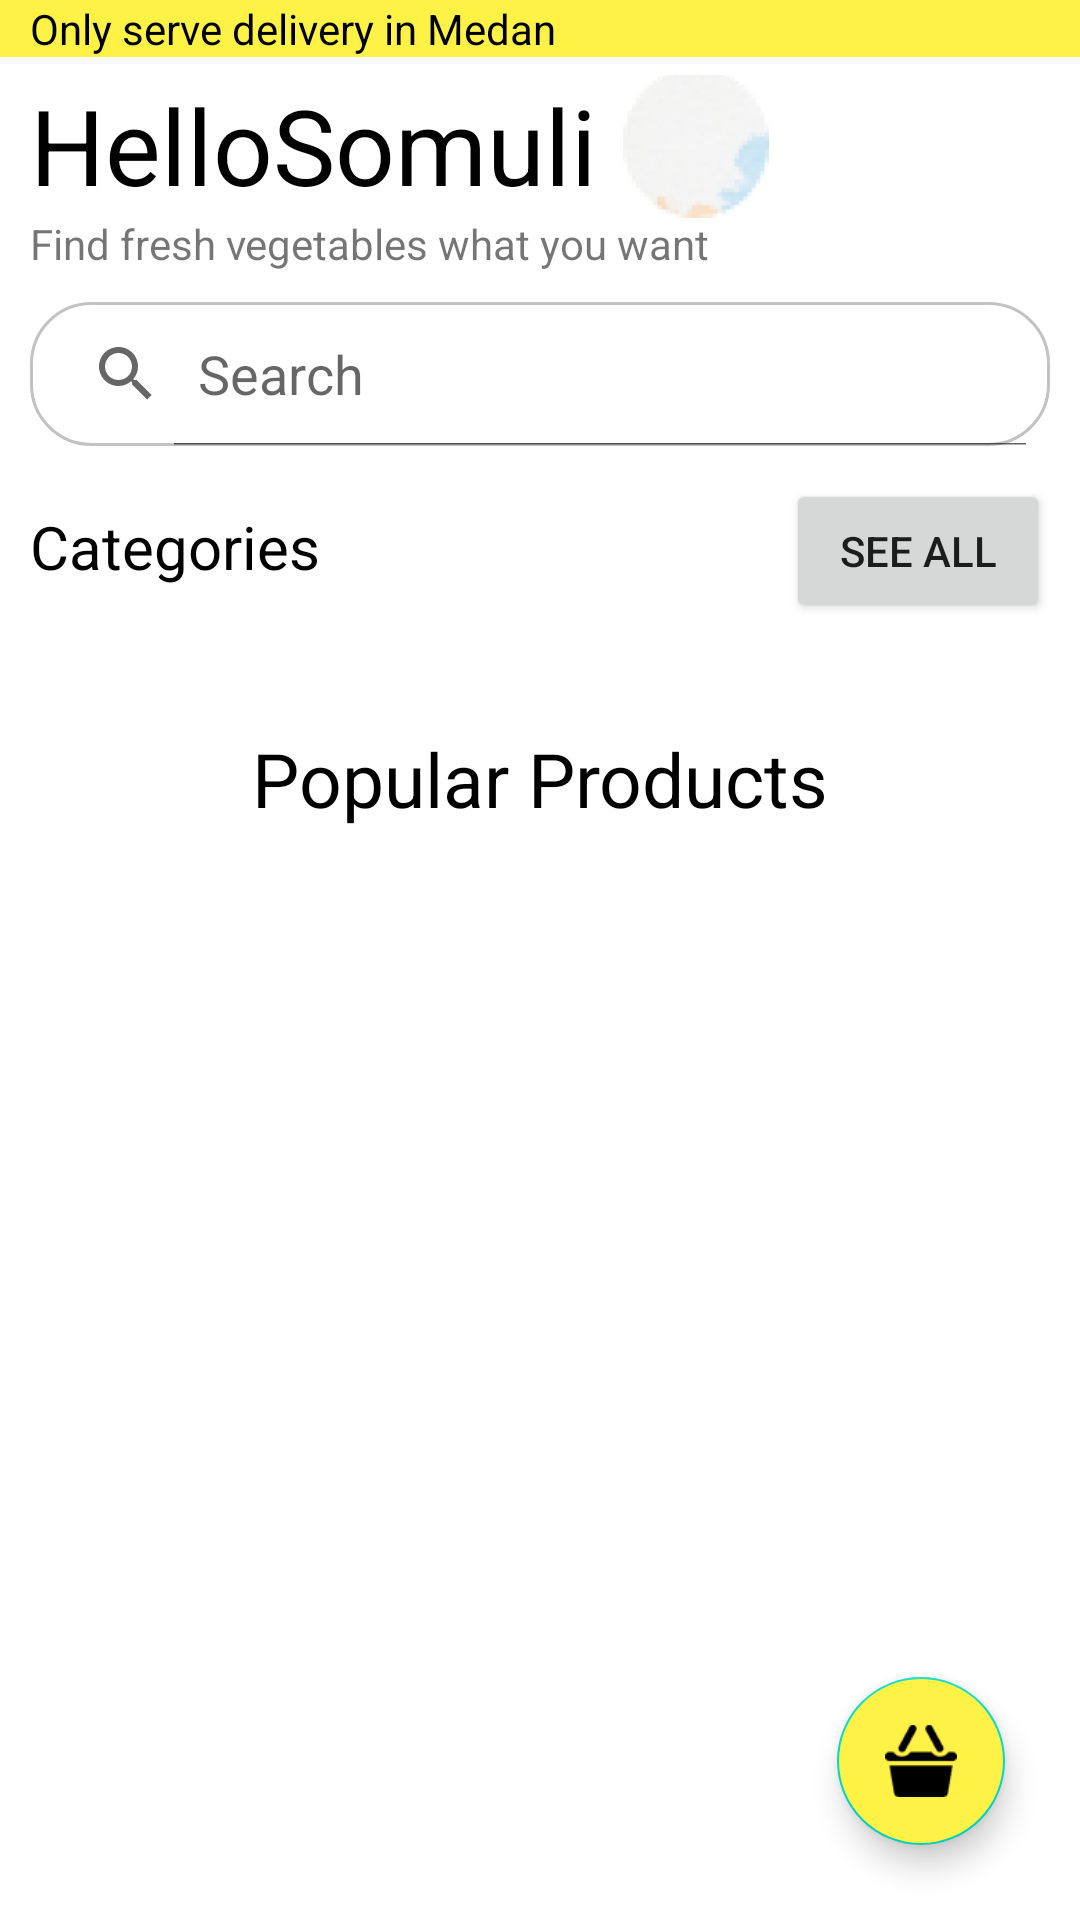

Icon bounding boxes for this 1080 × 1920 phone screenshot, format box=[x1, y1, x2, y2]:
cart: box=[837, 1677, 1005, 1845]
